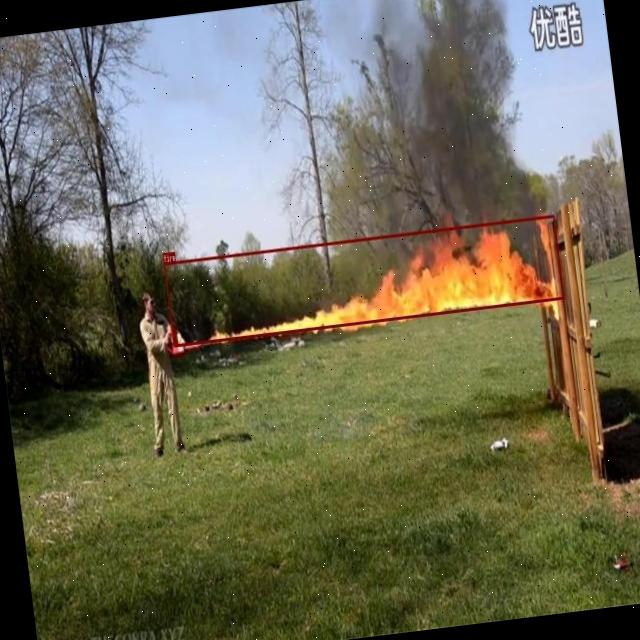fire: (163, 214, 564, 346)
